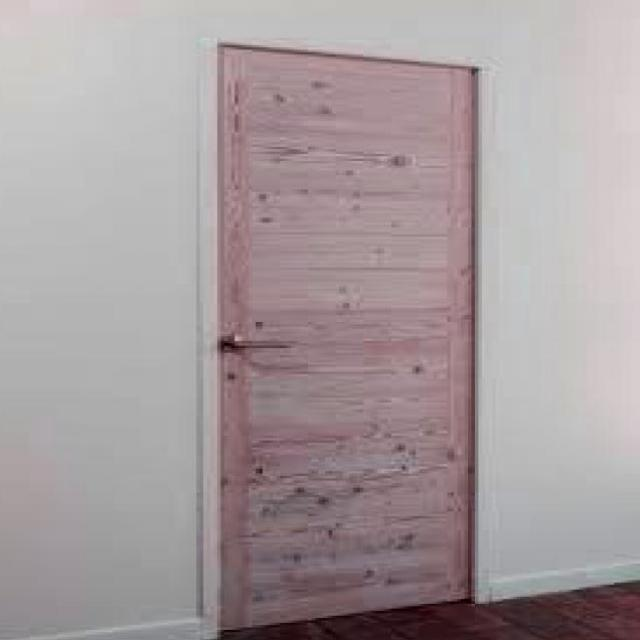door: (213, 42, 478, 631)
